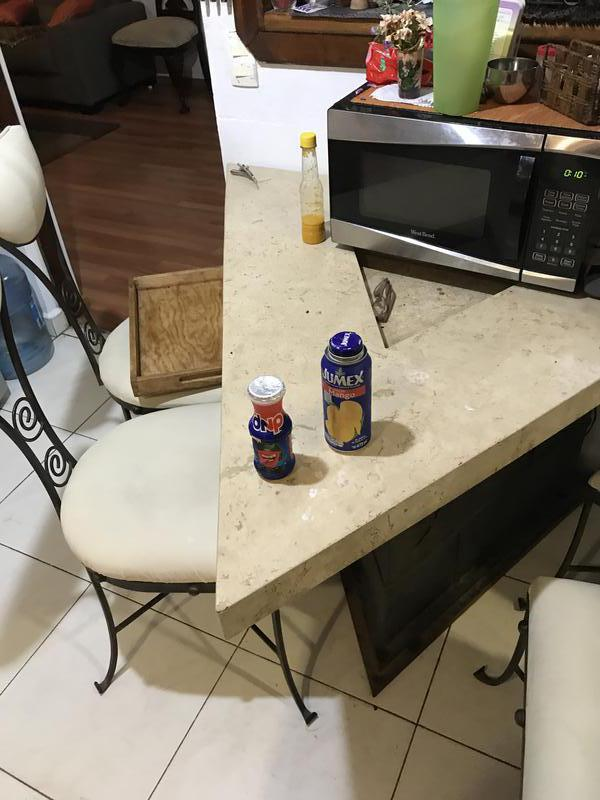danup: (246, 379, 296, 480)
jugo_jumex: (320, 329, 372, 453)
